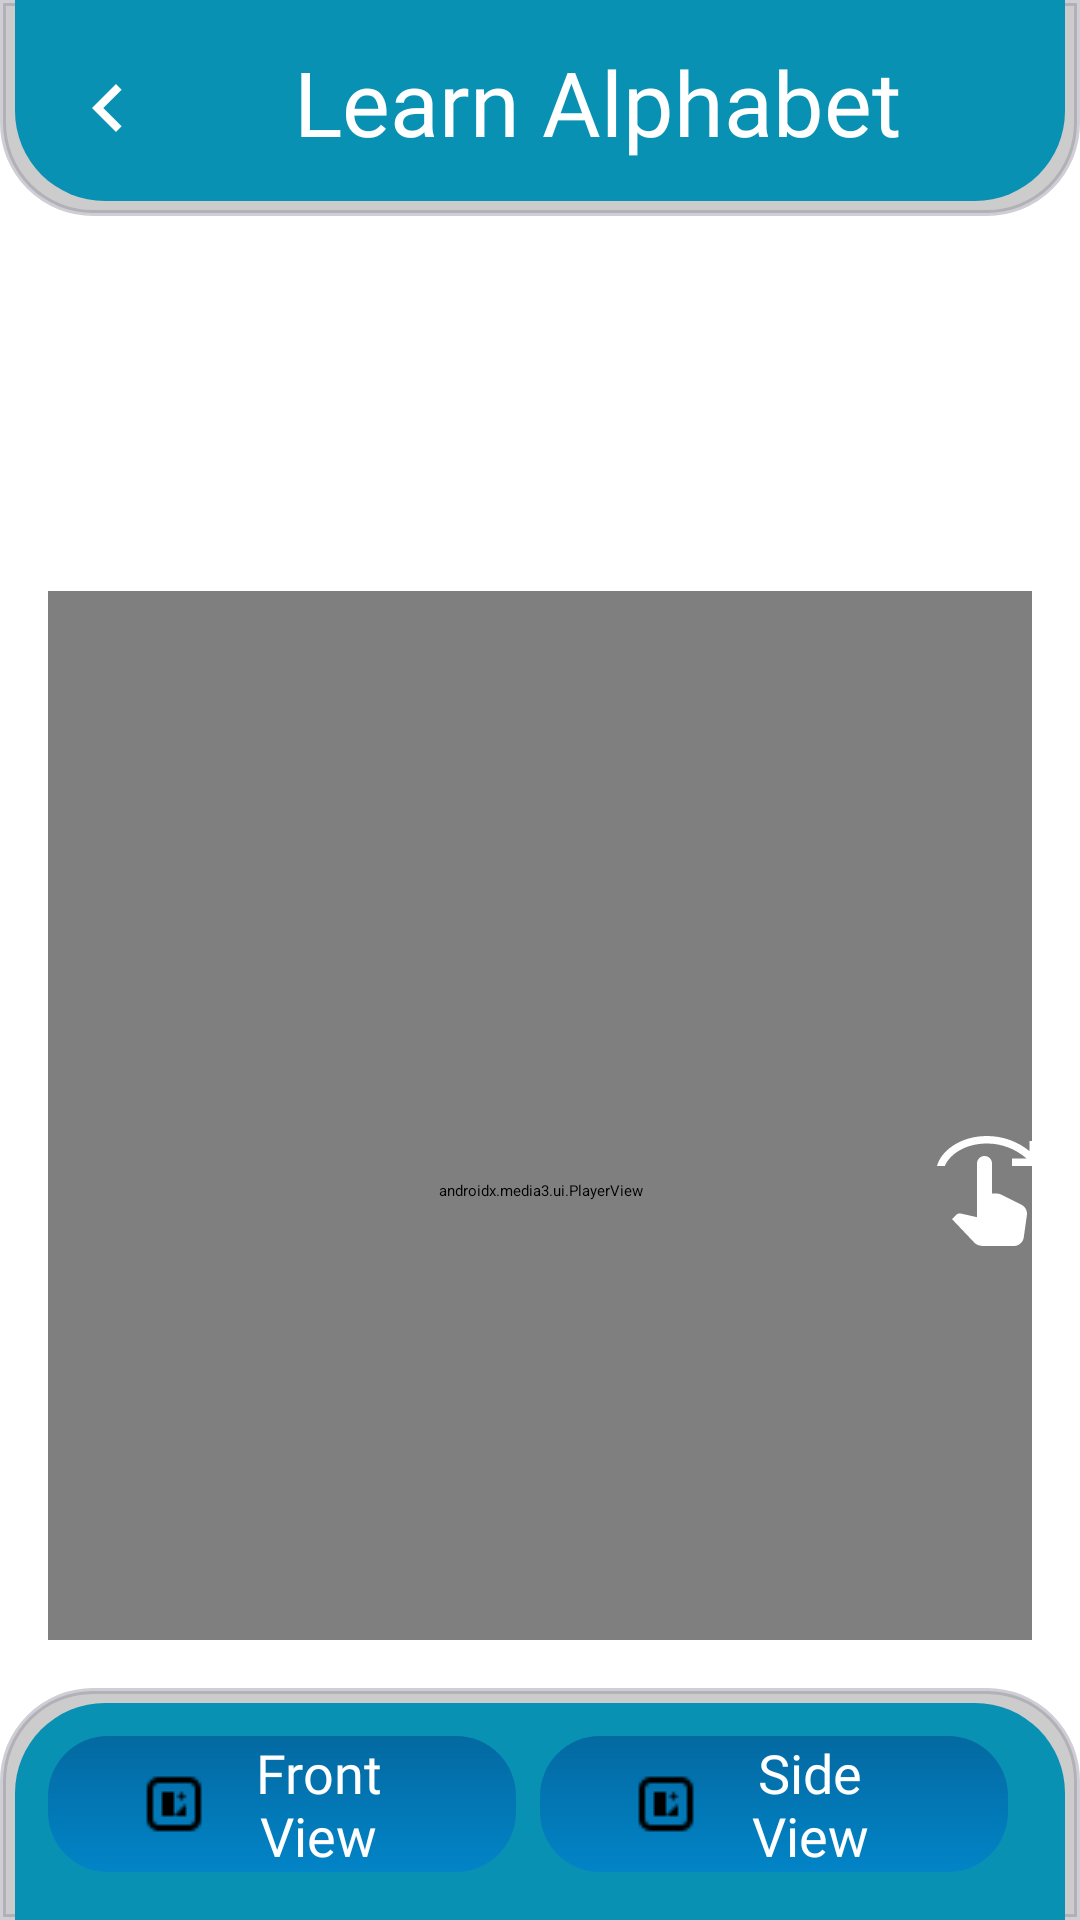

Screen size 1080 x 1920. Icon name, then its box in pixels as (x1, y1, x2, y2):
back: (92, 84, 122, 132)
swipe right: (952, 1156, 1027, 1246)
